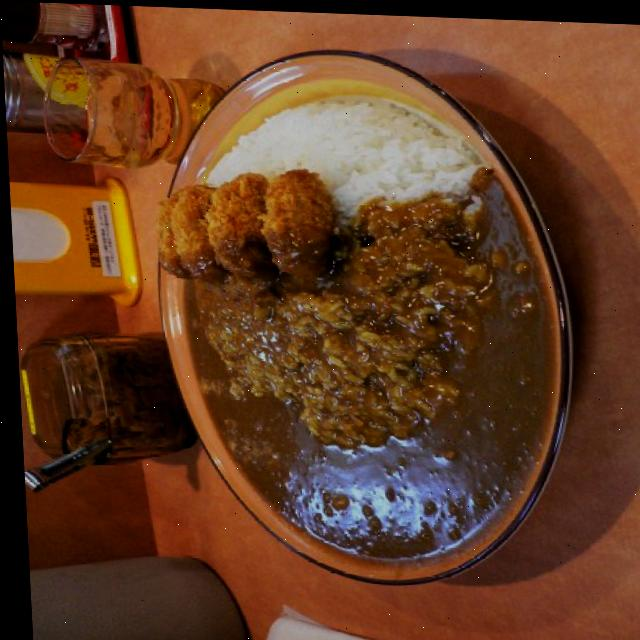猪肉菜式: (100, 24, 594, 604)
